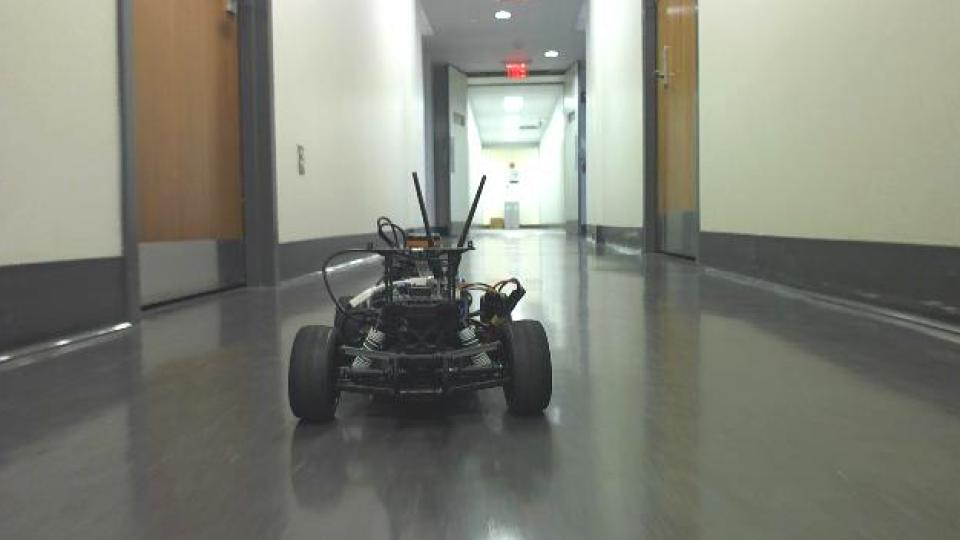car: (285, 170, 557, 425)
